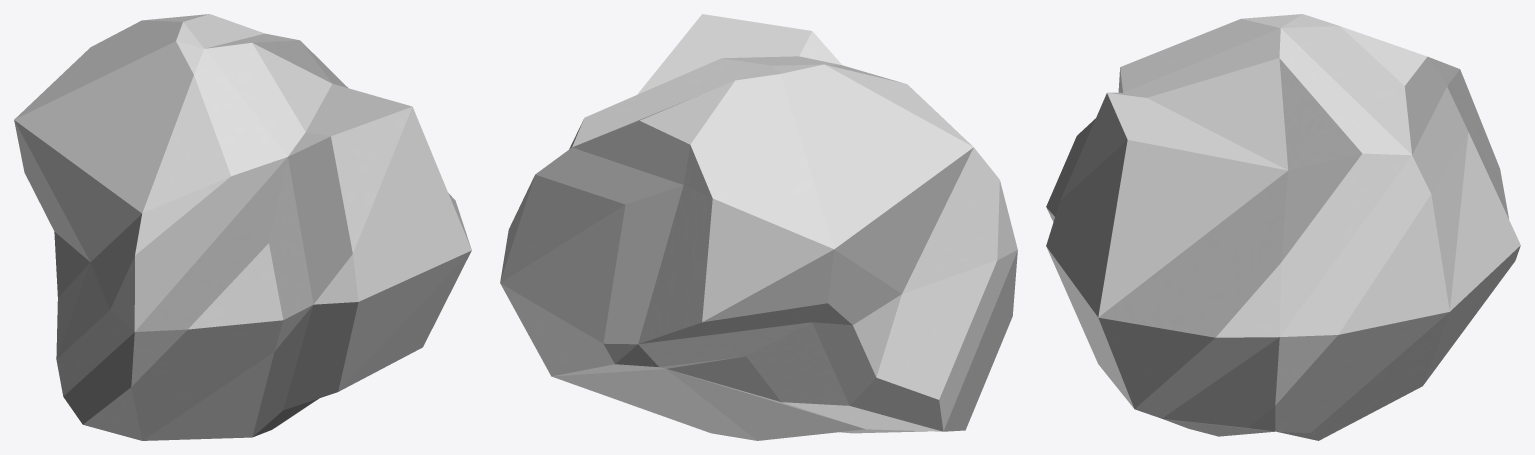
The model's file is trash_paper.fbx.
3 renders of one model, left to right at view 1: azimuth 30°, elevation 25°; view 2: azimuth 150°, elevation 25°; view 3: azimuth 270°, elevation 25°, orthographic. The views are drawn at different scales.
Parts seen in each view (by area): view 1: Box001; view 2: Box001; view 3: Box001.
Part boxes in pixels (x1,y1,x2,y2): Box001: [14, 14, 471, 440]; Box001: [500, 14, 1017, 440]; Box001: [1046, 14, 1520, 440].
Bounding box in the file's own units: 2.05 × 1.88 × 2.13.
